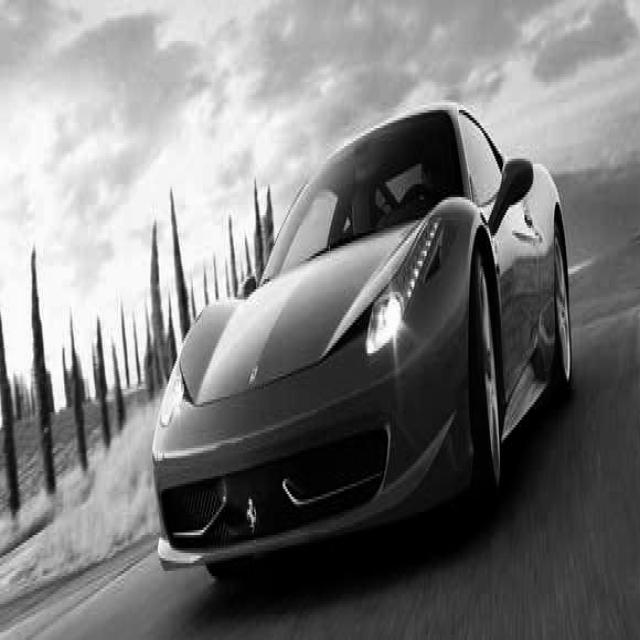car: (150, 97, 573, 581)
